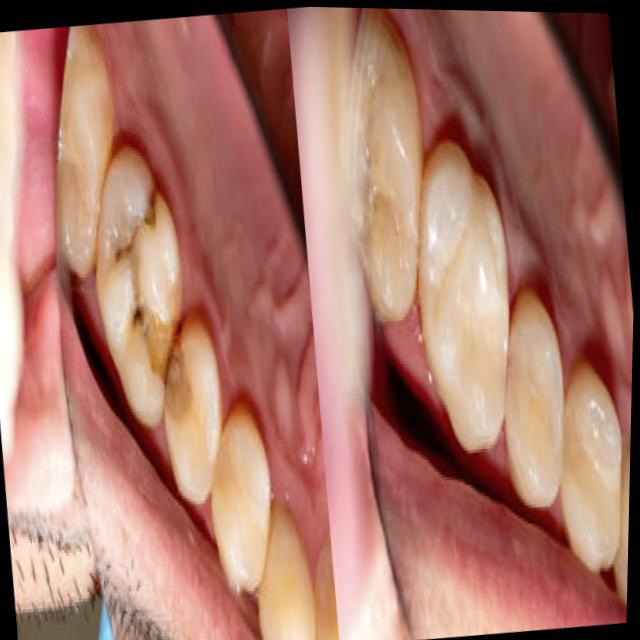calculus: (349, 74, 381, 297), (134, 317, 176, 380), (164, 335, 190, 412)
